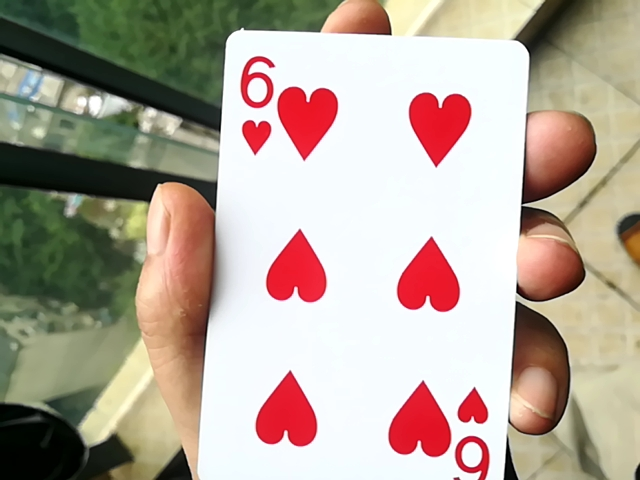hx 6: (190, 18, 538, 480)
